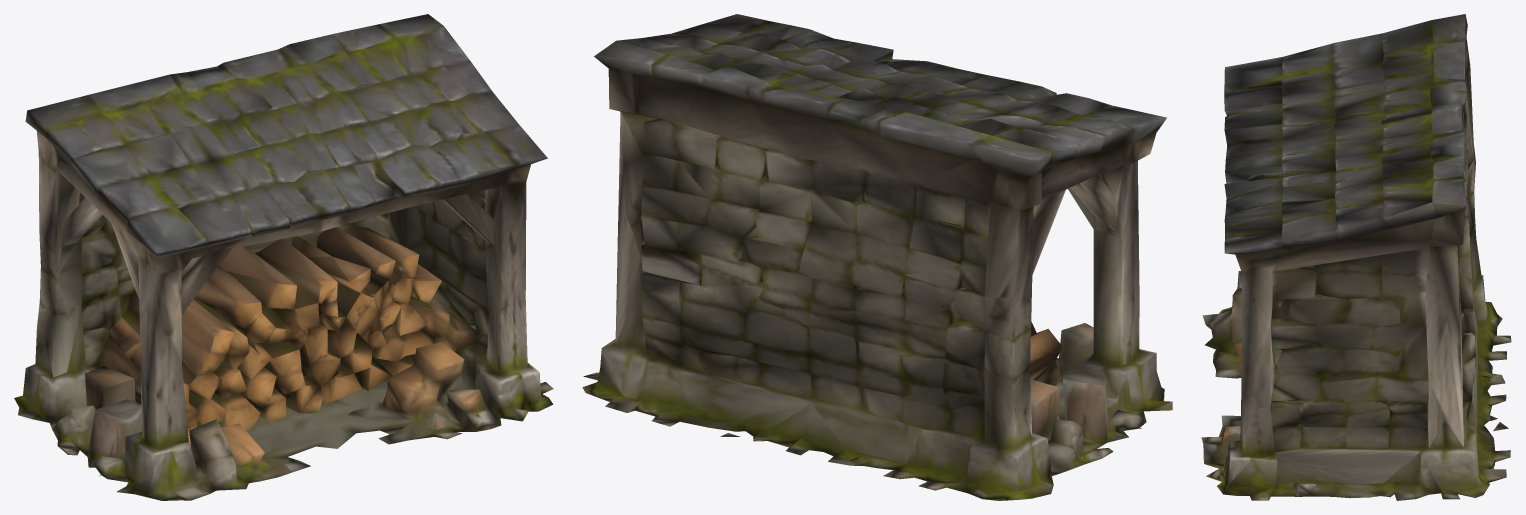
The model's file is land_watch_hut_far.obj.
3 views of the same model, side by side, from view 1: azimuth 30°, elevation 25°; view 2: azimuth 150°, elevation 25°; view 3: azimuth 270°, elevation 25° (orthographic). The views are drawn at different scales.
Visible parts, largest first — view 1: land_watch_hut_far; view 2: land_watch_hut_far; view 3: land_watch_hut_far.
Boxes of the visible parts, x1,y1,x2,y2 form: land_watch_hut_far: (14,14,553,500); land_watch_hut_far: (582,14,1172,500); land_watch_hut_far: (1201,14,1511,500).
Bounding box in the file's own units: 7.42 × 4.97 × 4.74.
Materials: 1 (1 with a texture image).
